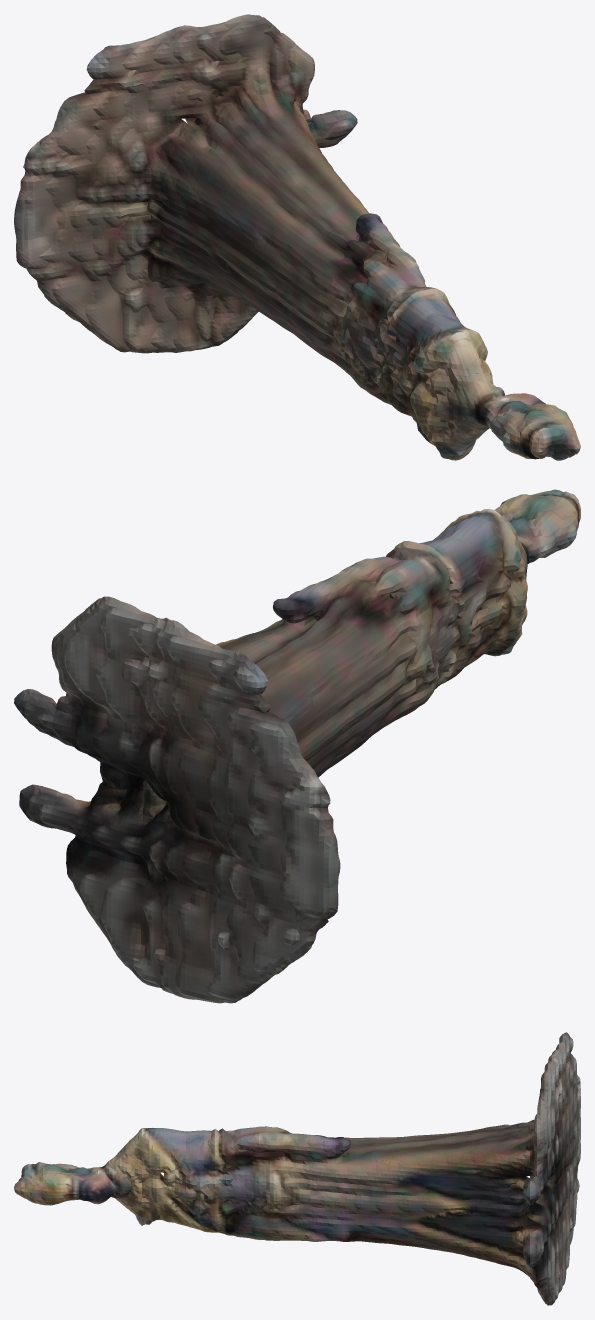
The model's file is bali_chakravarti.glb.
The picture shows the model from 3 angles, top to bottom: view 1: azimuth 30°, elevation 25°; view 2: azimuth 150°, elevation 25°; view 3: azimuth 270°, elevation 25°; orthographic projection. The views are drawn at different scales.
Parts seen in each view (by area): view 1: world; view 2: world; view 3: world.
Part boxes in pixels (bbox=[...]): world: bbox=[14, 14, 580, 460]; world: bbox=[14, 489, 580, 1003]; world: bbox=[14, 1032, 580, 1305].
Size of the model in its own units: 0.5067 by 0.5039 by 1.06.
